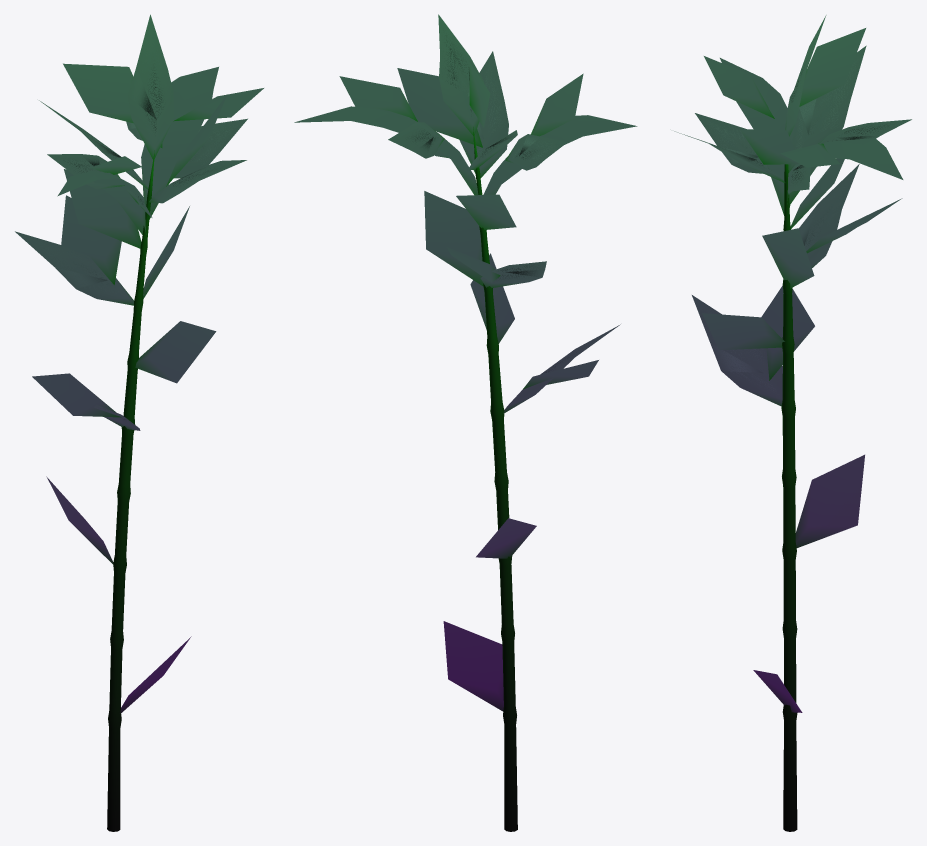
The model's file is TSI_Bamboo_03B.fbx.
The picture shows the model from 3 angles, left to right: view 1: azimuth 30°, elevation 25°; view 2: azimuth 150°, elevation 25°; view 3: azimuth 270°, elevation 25°; orthographic projection. The views are drawn at different scales.
Parts seen in each view (by area): view 1: TSI_Bamboo_03B_LOD0; view 2: TSI_Bamboo_03B_LOD0; view 3: TSI_Bamboo_03B_LOD0.
Part boxes in pixels (x1,y1,x2,y2): TSI_Bamboo_03B_LOD0: (15, 14, 263, 831); TSI_Bamboo_03B_LOD0: (294, 14, 637, 831); TSI_Bamboo_03B_LOD0: (674, 15, 911, 831).
Size of the model in its own units: 122 by 372 by 98.7.
